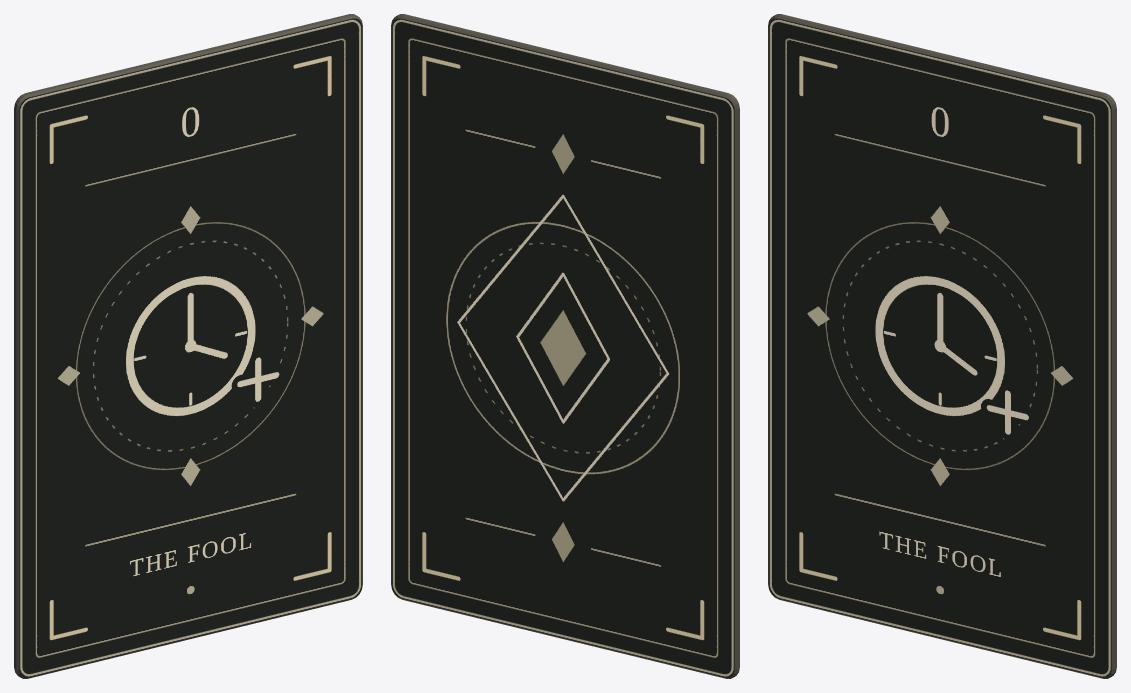
Rendered from fool.glb.
3 views of the same model, side by side, from view 1: azimuth 30°, elevation 25°; view 2: azimuth 150°, elevation 25°; view 3: azimuth 330°, elevation 25° (orthographic).
Visible parts, largest first — view 1: fool; view 2: fool; view 3: fool.
Boxes of the visible parts, bbox=[...] form: fool: bbox=[14, 14, 362, 678]; fool: bbox=[391, 14, 739, 678]; fool: bbox=[768, 14, 1116, 678].
Bounding box in the file's own units: 0.18 × 0.29 × 0.004.
Materials: 3 (2 with a texture image).
